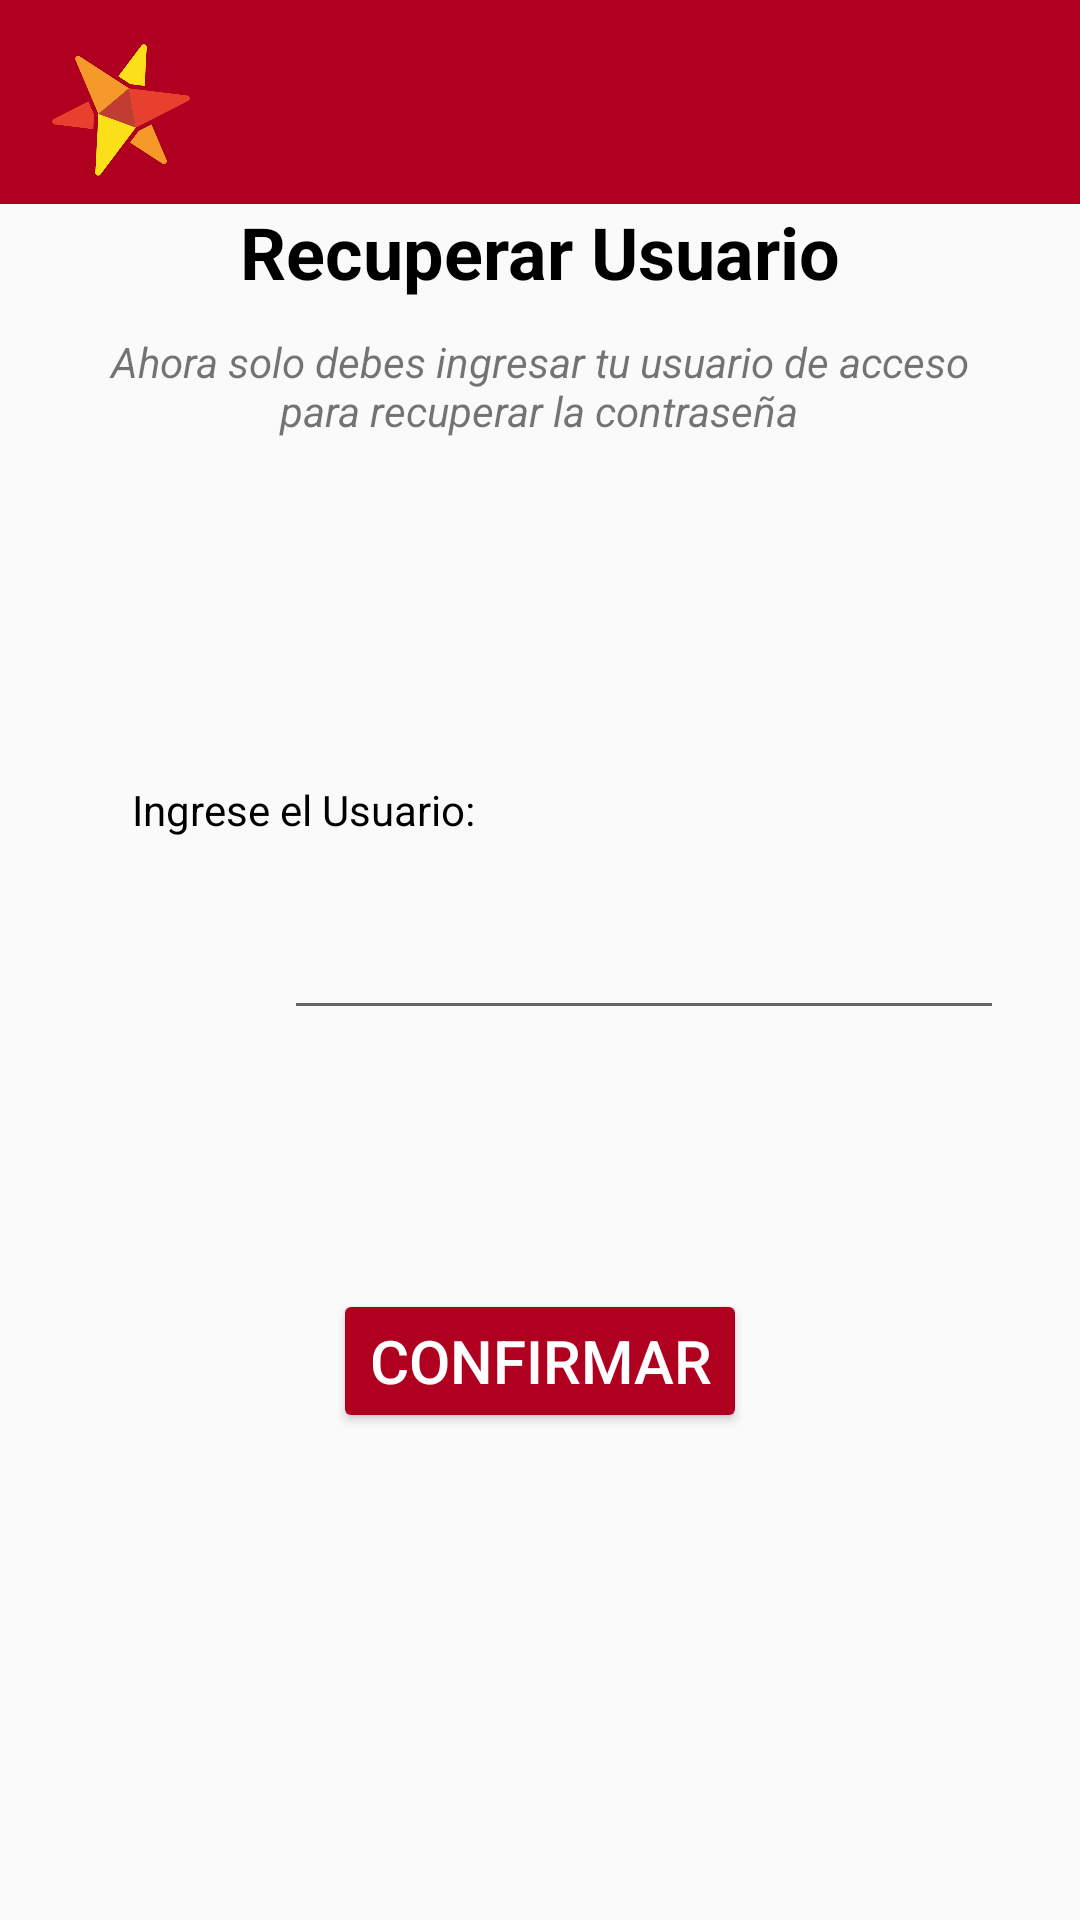

Locate icon controls on the screen. Image size 1080*1920, boxes as (x1, y1, x2, y2).
starbank favicon: (52, 44, 190, 176)
